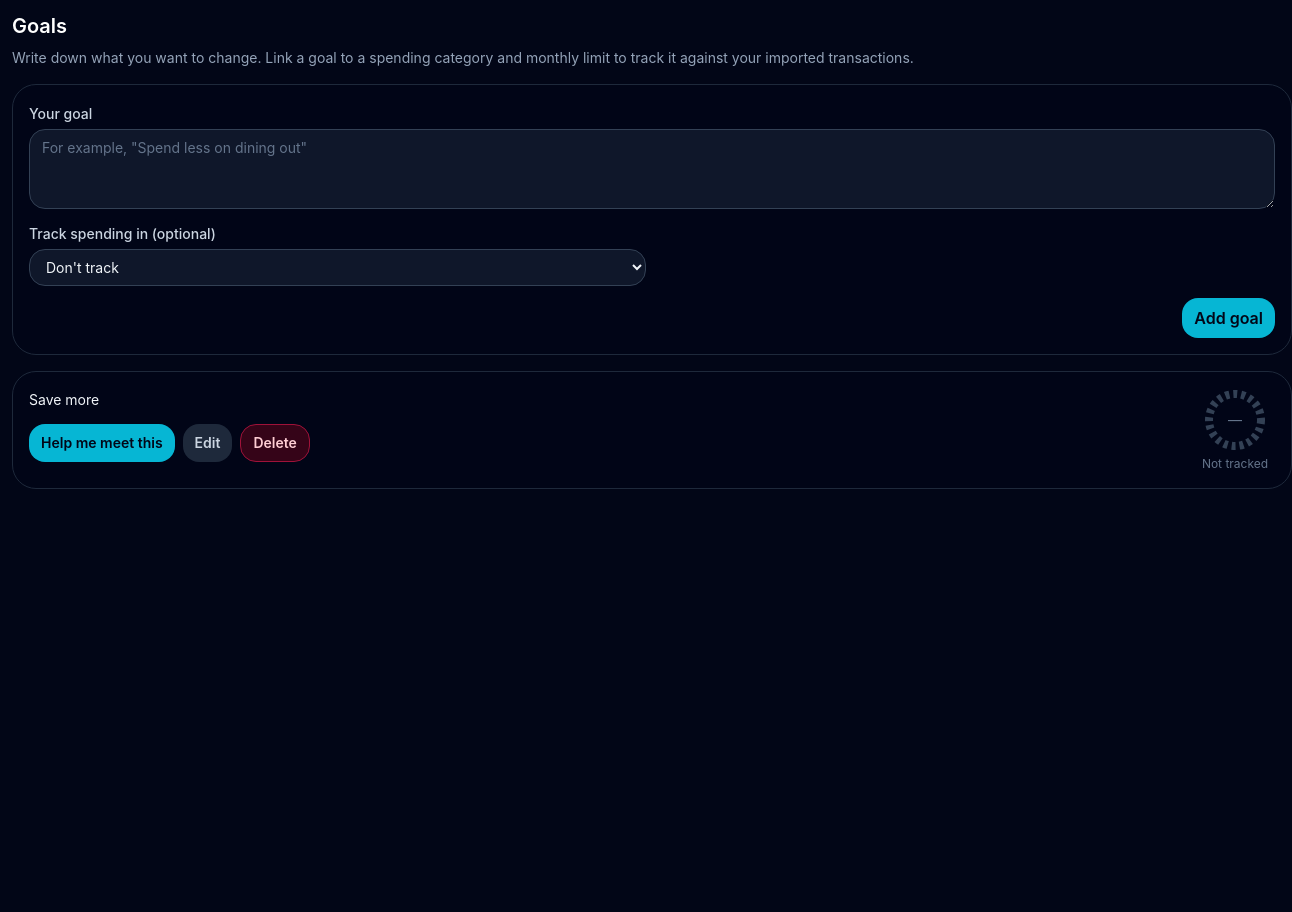
Scenario: GoalsTab › edits a goal in place and cancel discards changes
Click the button with aria-label "Edit goal: Save more" at {"x": 208, "y": 443}, box [183,424,232,462]
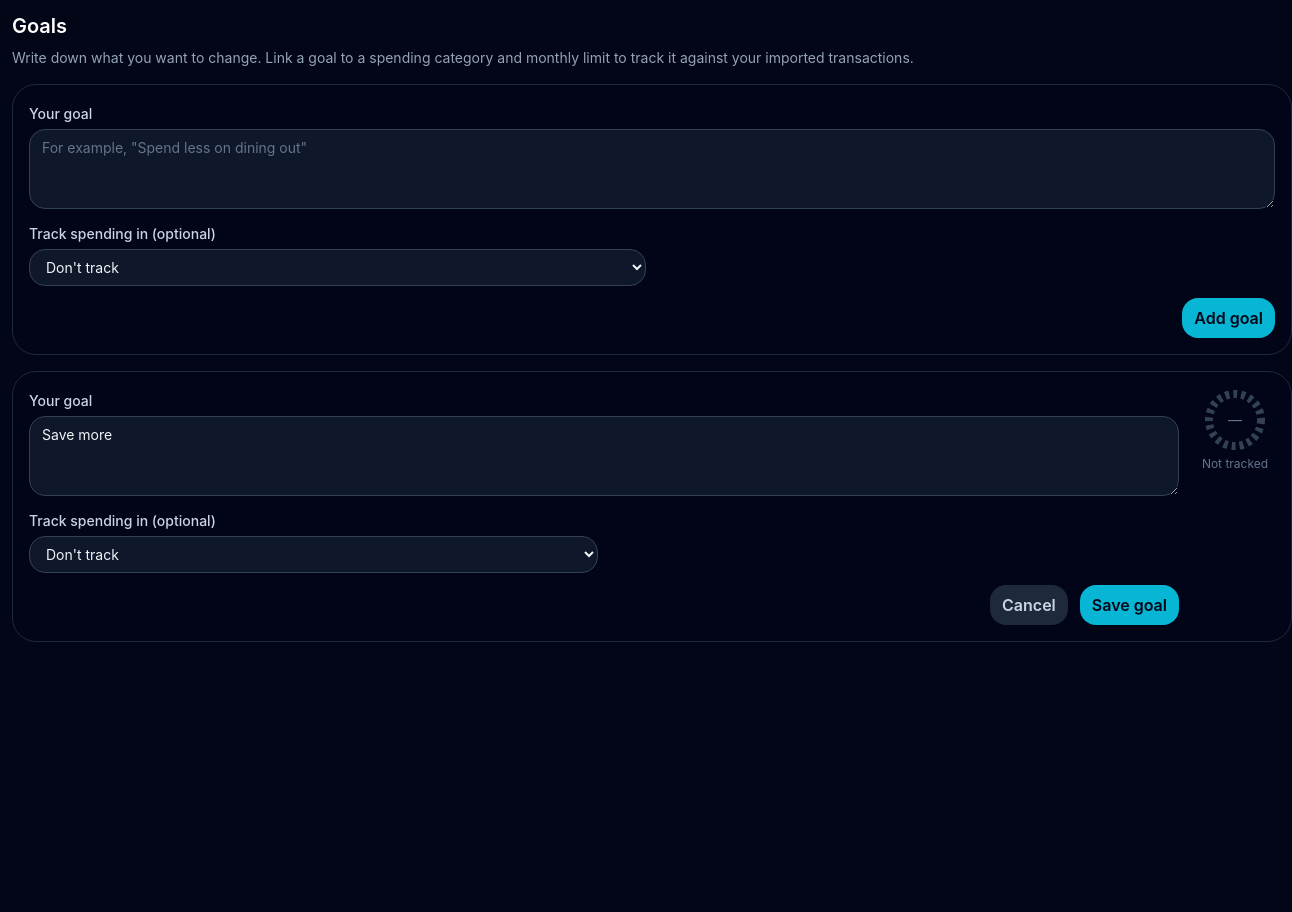
Replace the text in the text box labelled "Your goal" next to "Not tracked" with "Discarded" at {"x": 604, "y": 456}, box [29,416,1179,496]
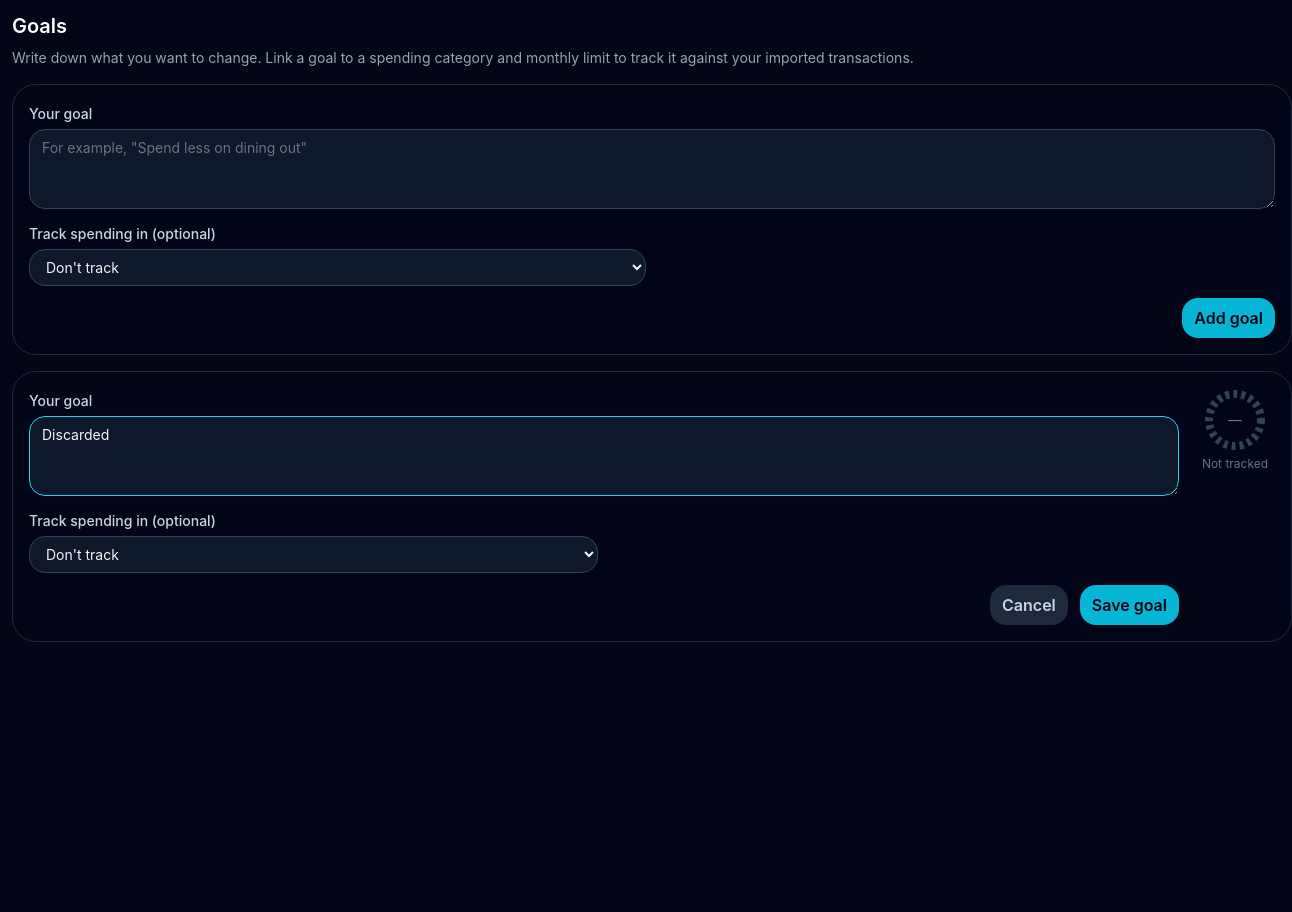
Click the button "Cancel" at {"x": 1029, "y": 605}, box [990,585,1068,625]
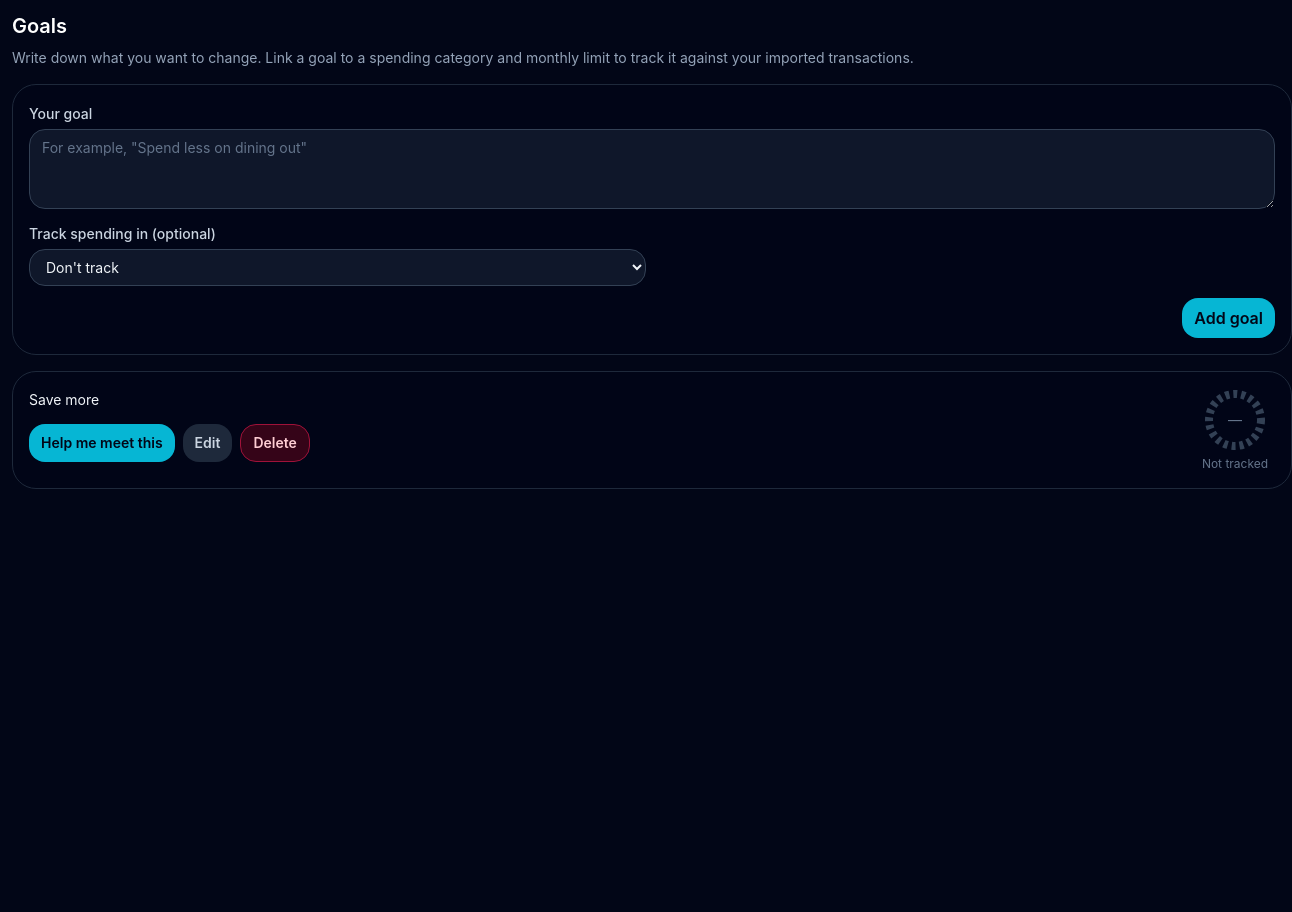
Click the button with aria-label "Edit goal: Save more" at {"x": 208, "y": 443}, box [183,424,232,462]
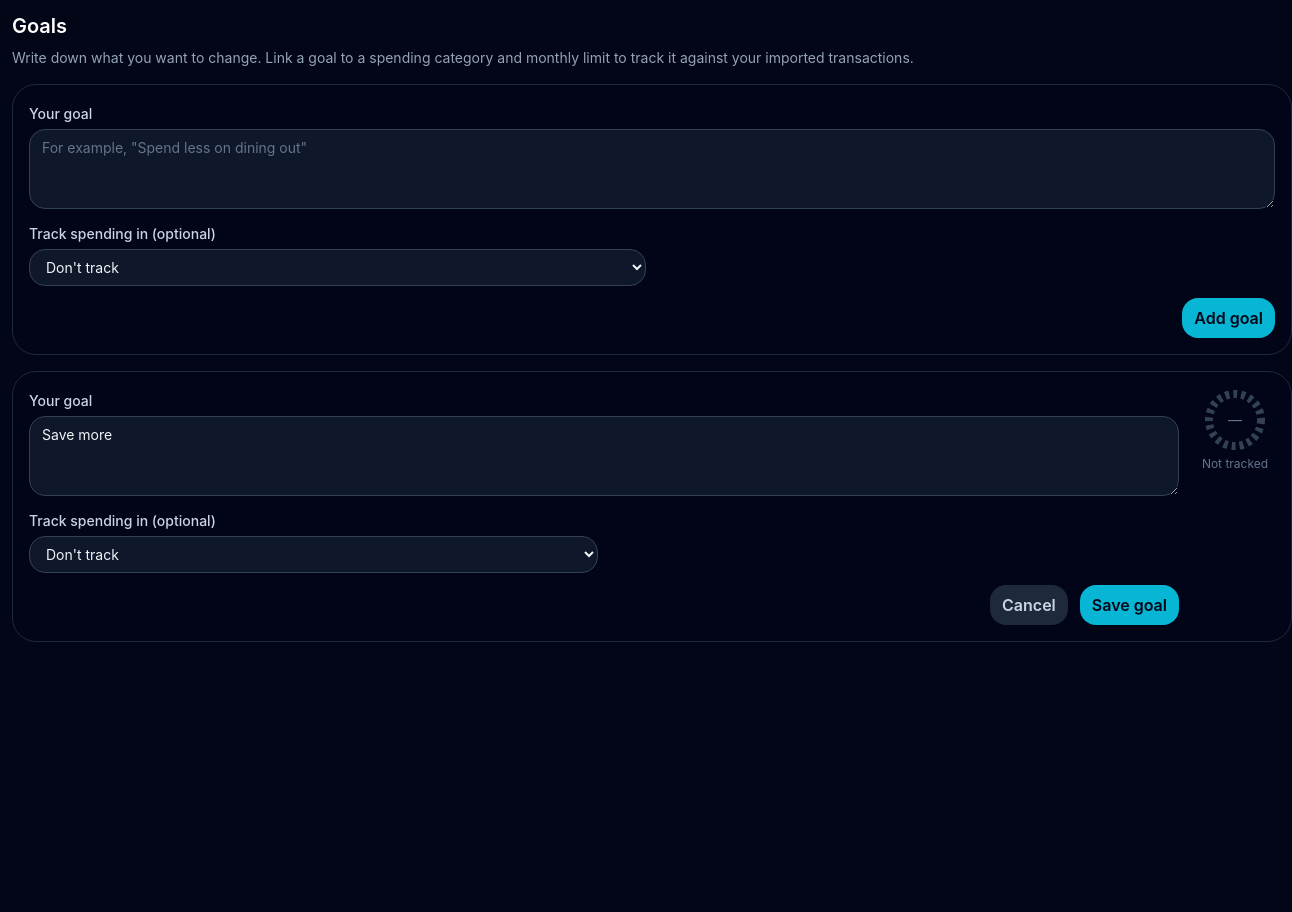
Replace the text in the text box labelled "Your goal" next to "Not tracked" with "Save $200 a month" at {"x": 604, "y": 456}, box [29,416,1179,496]
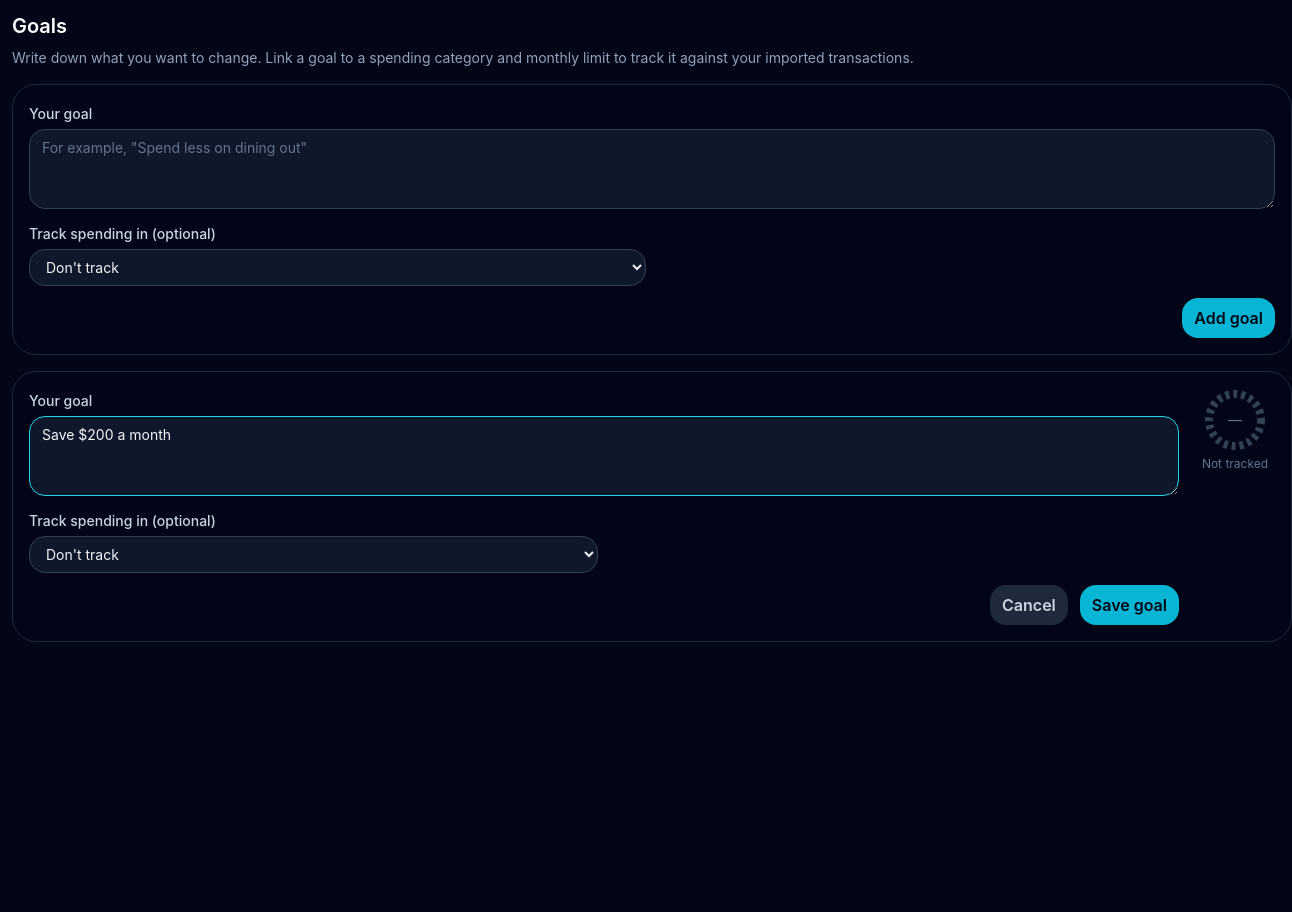
Click the button "Save goal" at {"x": 1129, "y": 605}, box [1080,585,1179,625]
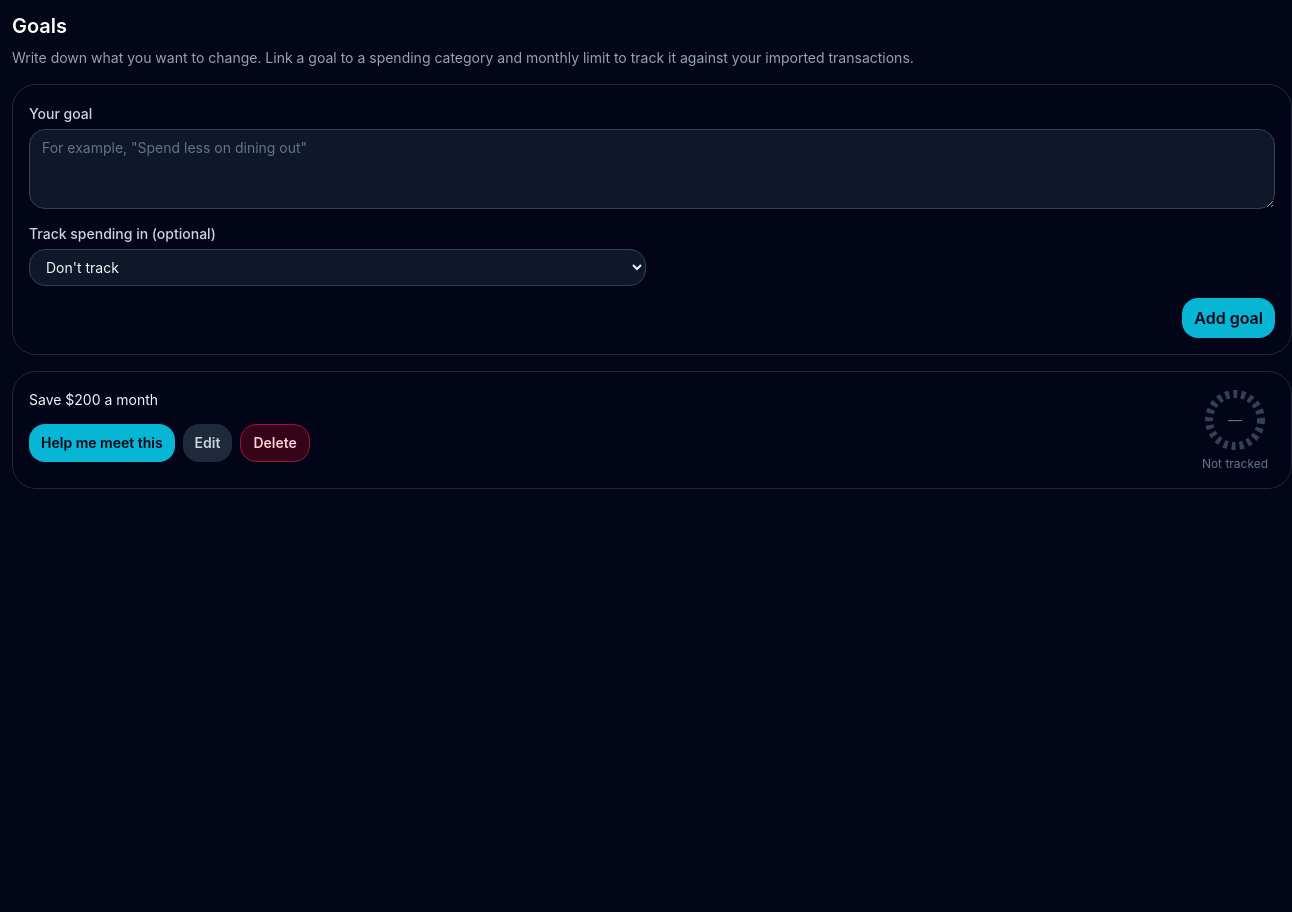
Expected: the button with aria-label "Edit goal: Save $200 a month" is shown, [183,424,232,462]
